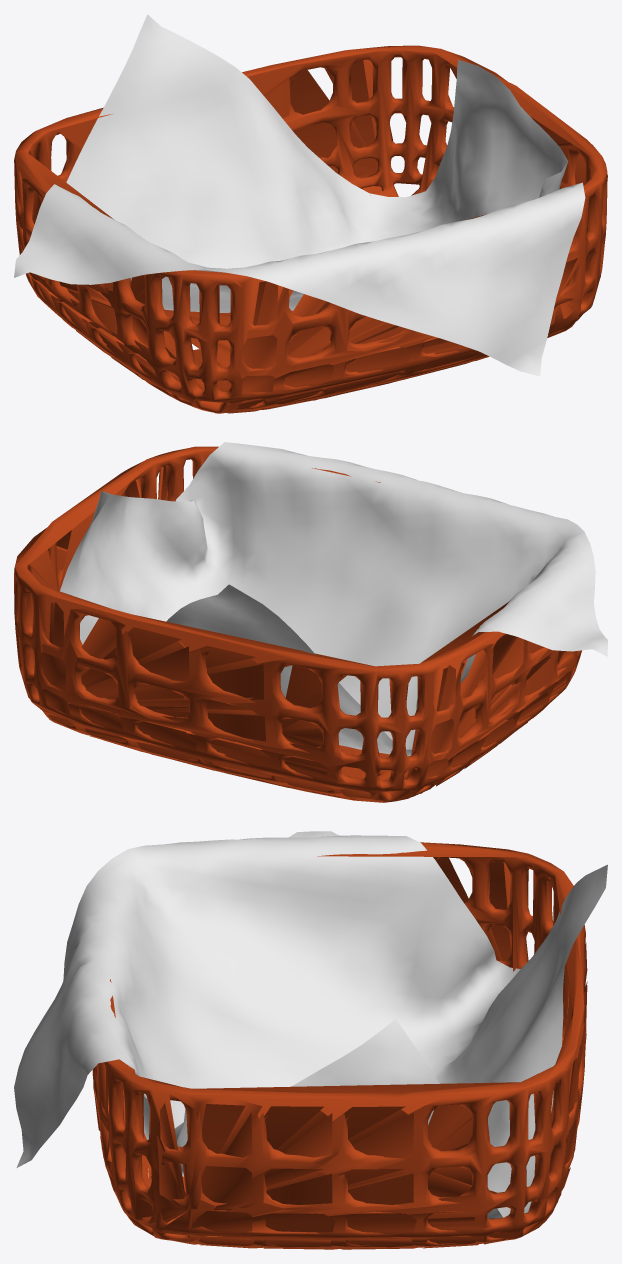
Rendered from basket.fbx.
3 views of the same model, one above another, from view 1: azimuth 30°, elevation 25°; view 2: azimuth 150°, elevation 25°; view 3: azimuth 270°, elevation 25° (orthographic). The views are drawn at different scales.
Visible parts, largest first — view 1: Plane, basket; view 2: Plane, basket; view 3: Plane, basket.
Part boxes in pixels (<box>): Plane: <box>14,14,585,376</box>; basket: <box>14,45,607,413</box>; Plane: <box>60,442,607,756</box>; basket: <box>14,446,581,802</box>; Plane: <box>14,831,607,1218</box>; basket: <box>92,842,587,1249</box>.
Size of the model in its own units: 636 by 270 by 533.
